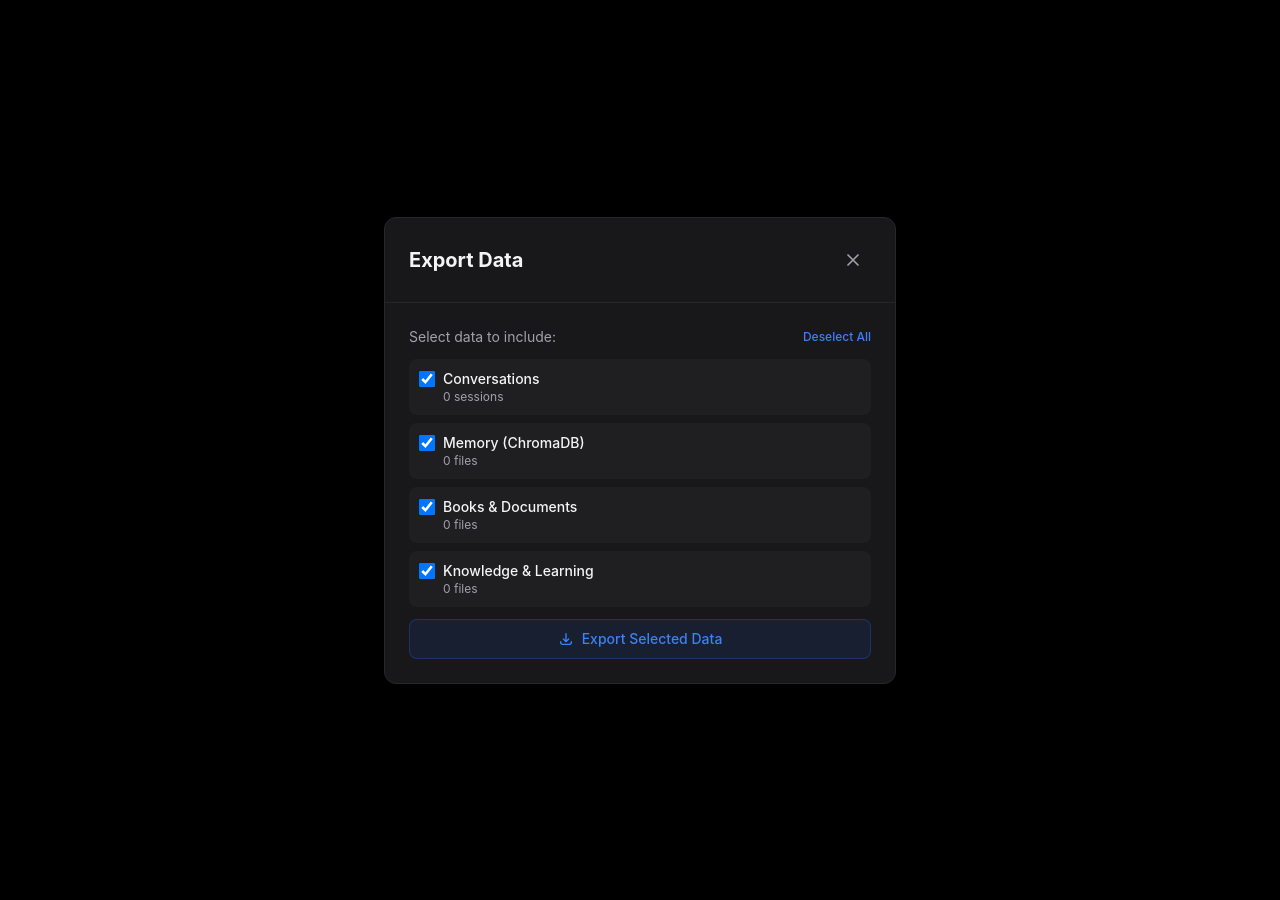
Test case: ExportModal › Export Button › disables export button when none selected
Note: Deselect all
Click the button "Deselect All" at [837, 336], box 803,328 -> 871,344
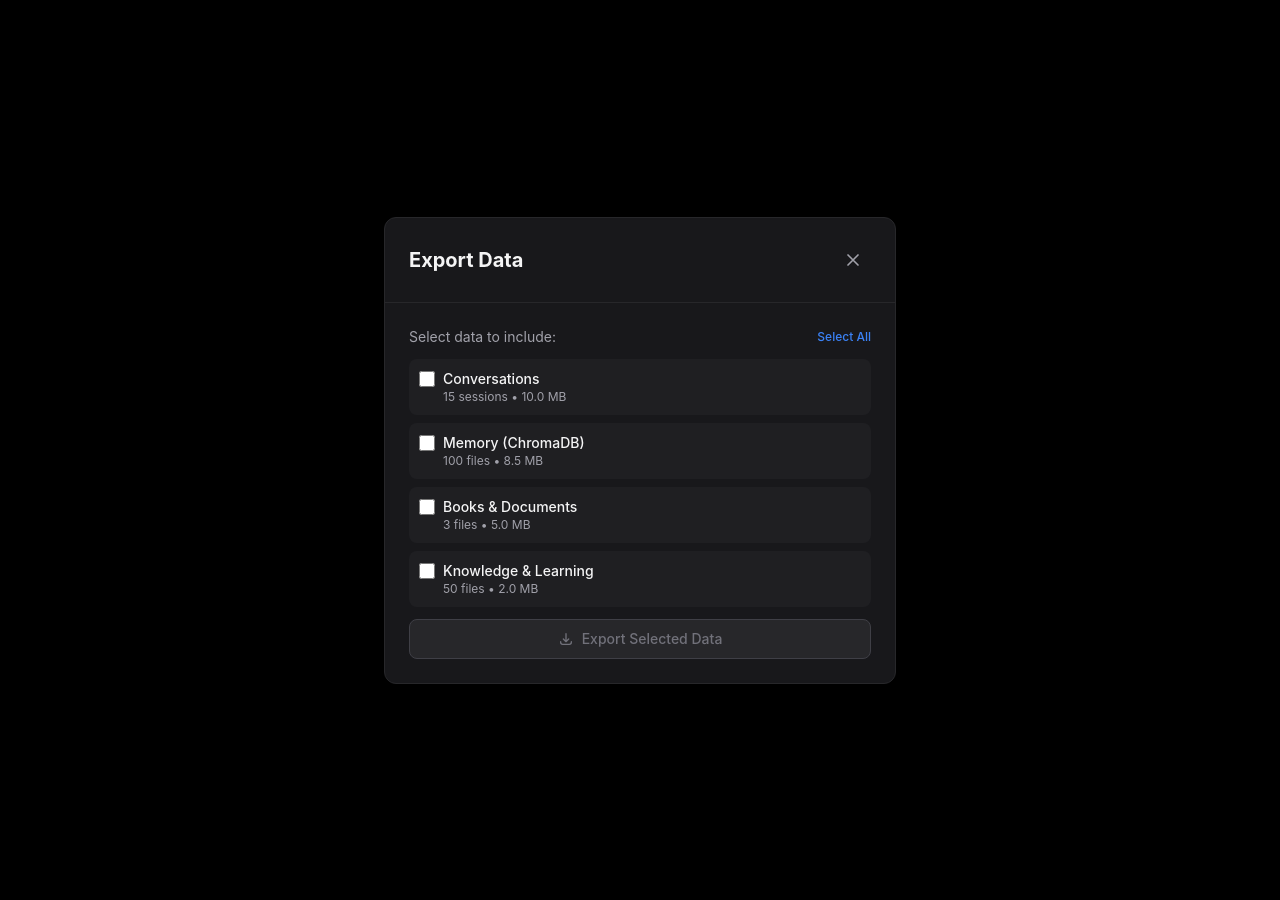
Expected: the button "Export Selected Data" is disabled, 409,618 -> 871,658
